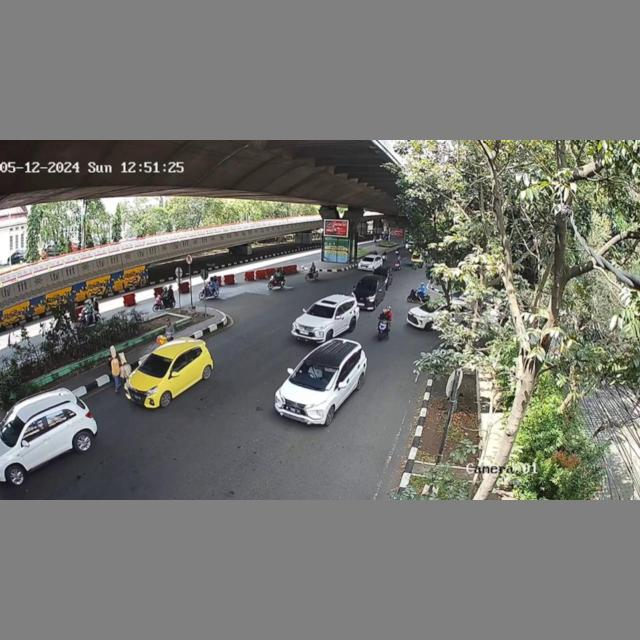windshield: (290, 359, 338, 389), (138, 355, 173, 375), (309, 302, 339, 319)
